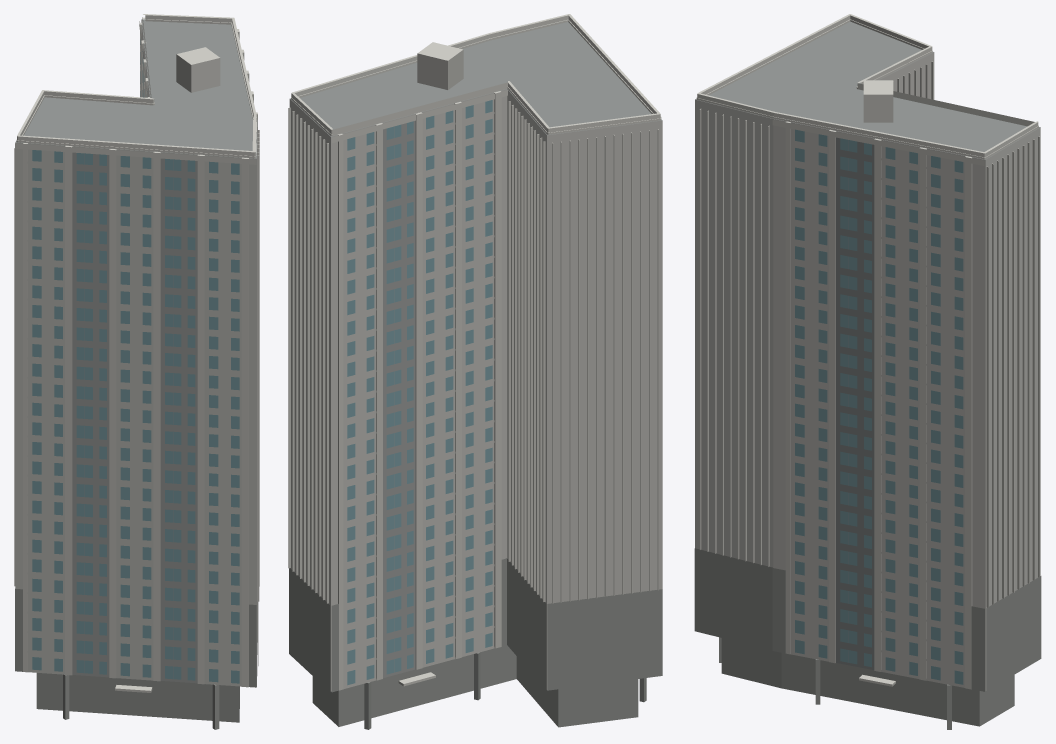
File: maple-xi-214.glb
3 renders of one model, left to right at view 1: azimuth 30°, elevation 25°; view 2: azimuth 150°, elevation 25°; view 3: azimuth 270°, elevation 25°, orthographic. The views are drawn at different scales.
Parts seen in each view (by area): view 1: maple-xi-214; view 2: maple-xi-214; view 3: maple-xi-214.
Boxes of the visible parts, x1,y1,x2,y2 form: maple-xi-214: (14,14,259,729); maple-xi-214: (288,14,662,729); maple-xi-214: (694,14,1041,729).
Bounding box in the file's own units: 47.81 × 94.56 × 49.42.
